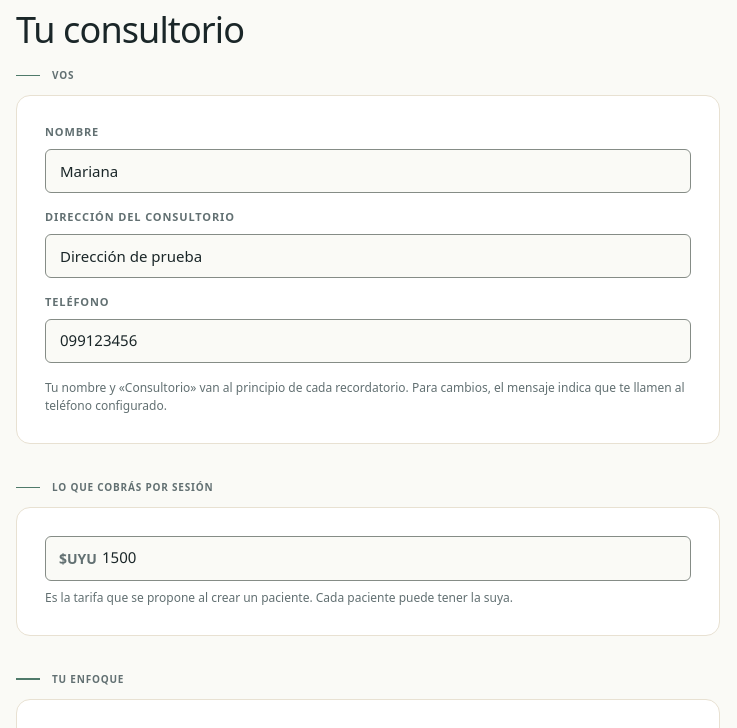
Test: identifica la tarifa inválida -1 sin enviar cambios
Replace the text in the number field named "Lo que cobrás por sesión" with "-1" at (368, 558), box [46,537,690,580]
Wait 1600 ms
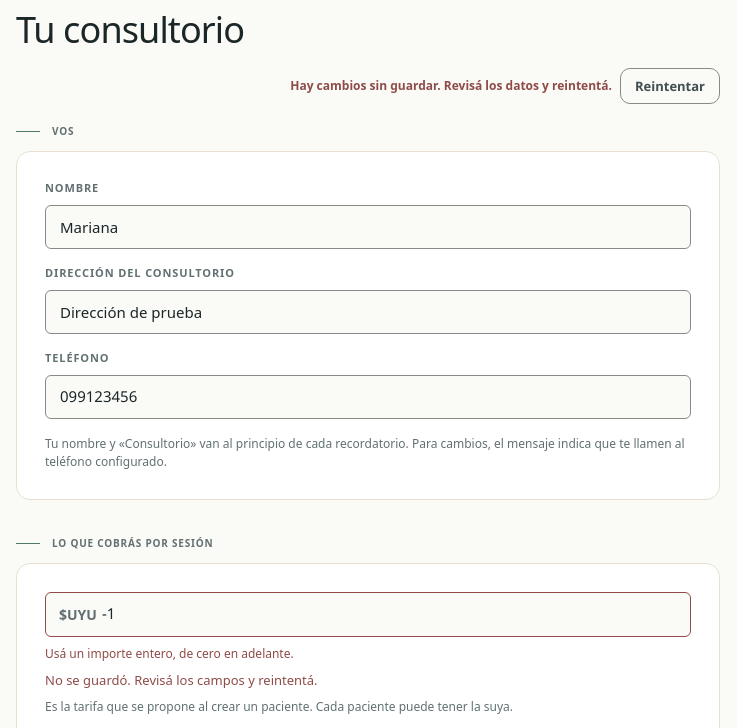
Expected: the text "Hay cambios sin guardar. Revisá los datos y reintentá." is shown, [290,77,612,95]
